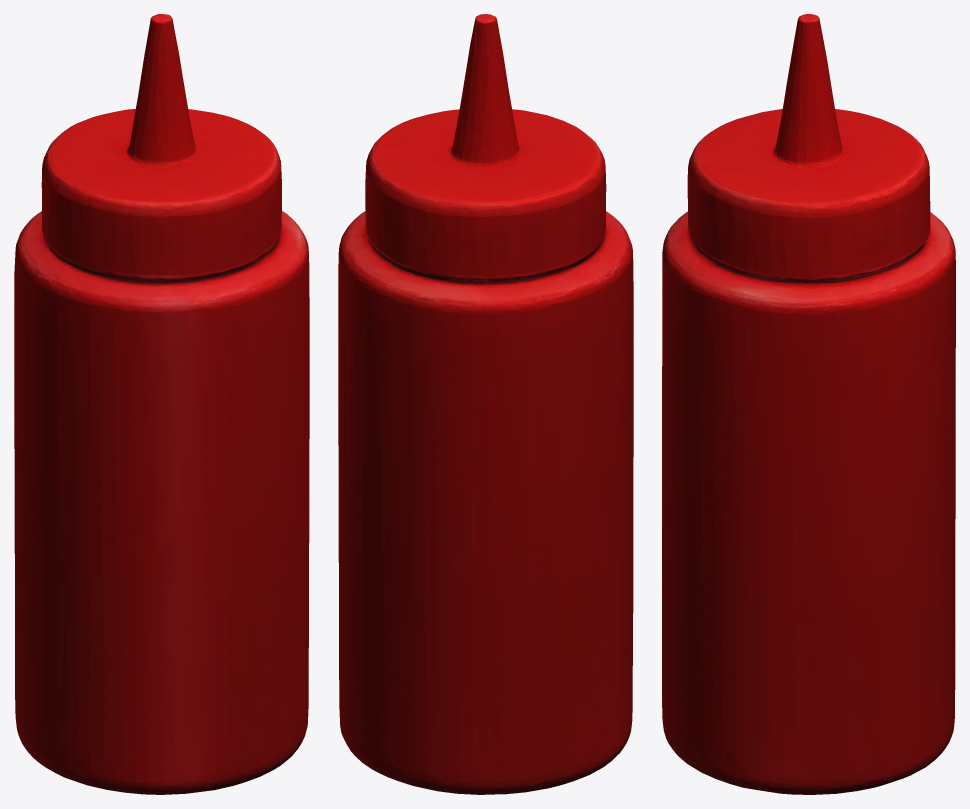
The model's file is bottle_squeeze_red_ketchup.glb.
The picture shows the model from 3 angles, left to right: view 1: azimuth 30°, elevation 25°; view 2: azimuth 150°, elevation 25°; view 3: azimuth 270°, elevation 25°; orthographic projection.
Parts seen in each view (by area): view 1: geometry_0; view 2: geometry_0; view 3: geometry_0.
Boxes of the visible parts, x1=… form: geometry_0: x1=14, y1=14, x2=309, y2=794; geometry_0: x1=338, y1=14, x2=633, y2=794; geometry_0: x1=662, y1=14, x2=955, y2=794.
Size of the model in its own units: 0.3687 by 0.9962 by 0.3673.
1 material, 1 textured.
